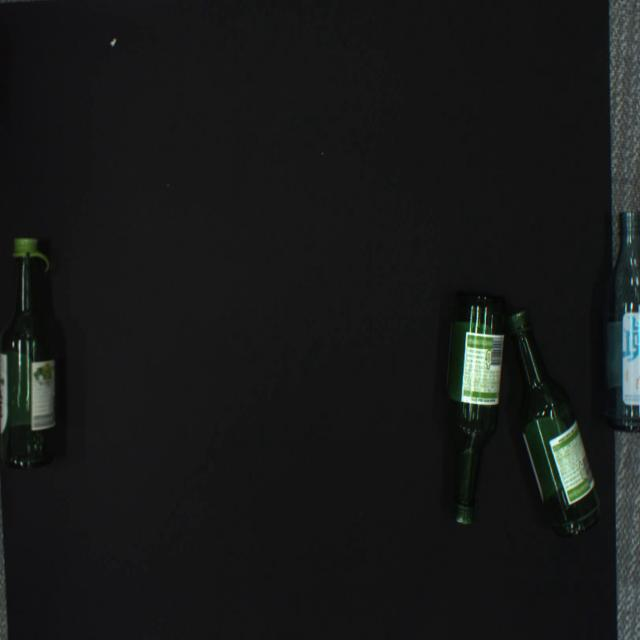soju-bottle: (506, 308, 602, 536), (444, 294, 508, 524), (0, 238, 55, 471), (603, 209, 640, 433)
